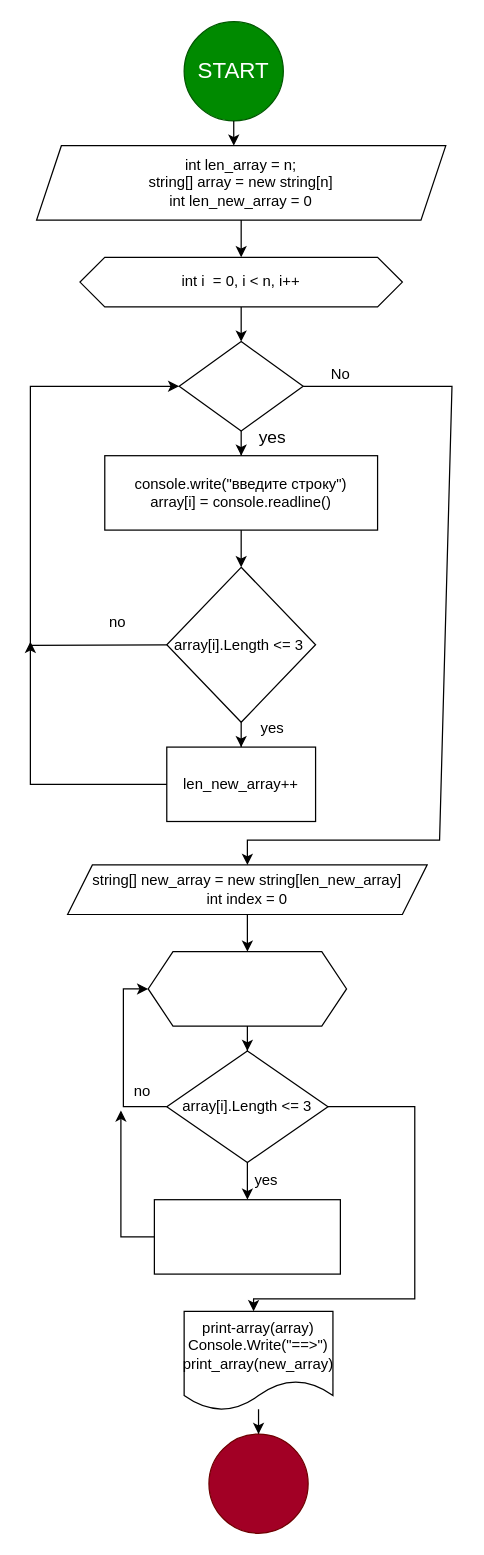
This 484x1555 diagram has some shape labels left out. The centre of each missing label's shape, as x and y in pixels:
"End" goes at (x=258, y=1483).
"i < n" goes at (x=240, y=385).
"i = 0, array.Length - 1, i++" goes at (x=247, y=988).
"new_array[index] = array[i] index++" goes at (x=246, y=1236).
